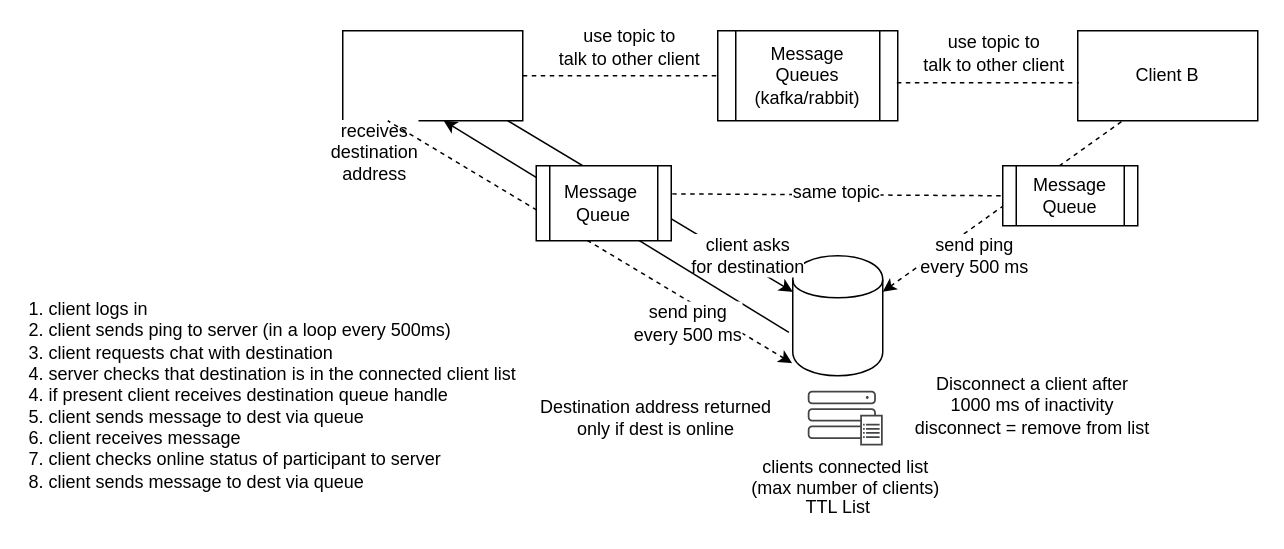
Some shapes in this 1284 by 549 pixel diagram are drawn without their labels. The centre of each missing label's shape, as x and y in pixels:
Client A: [432,75]
Server: [837,315]
